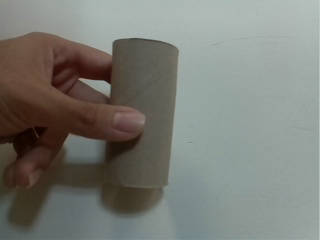rollo papel: (106, 37, 181, 190)
